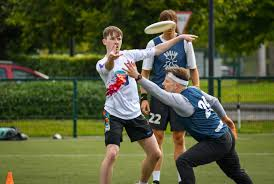disc: (142, 19, 179, 37)
